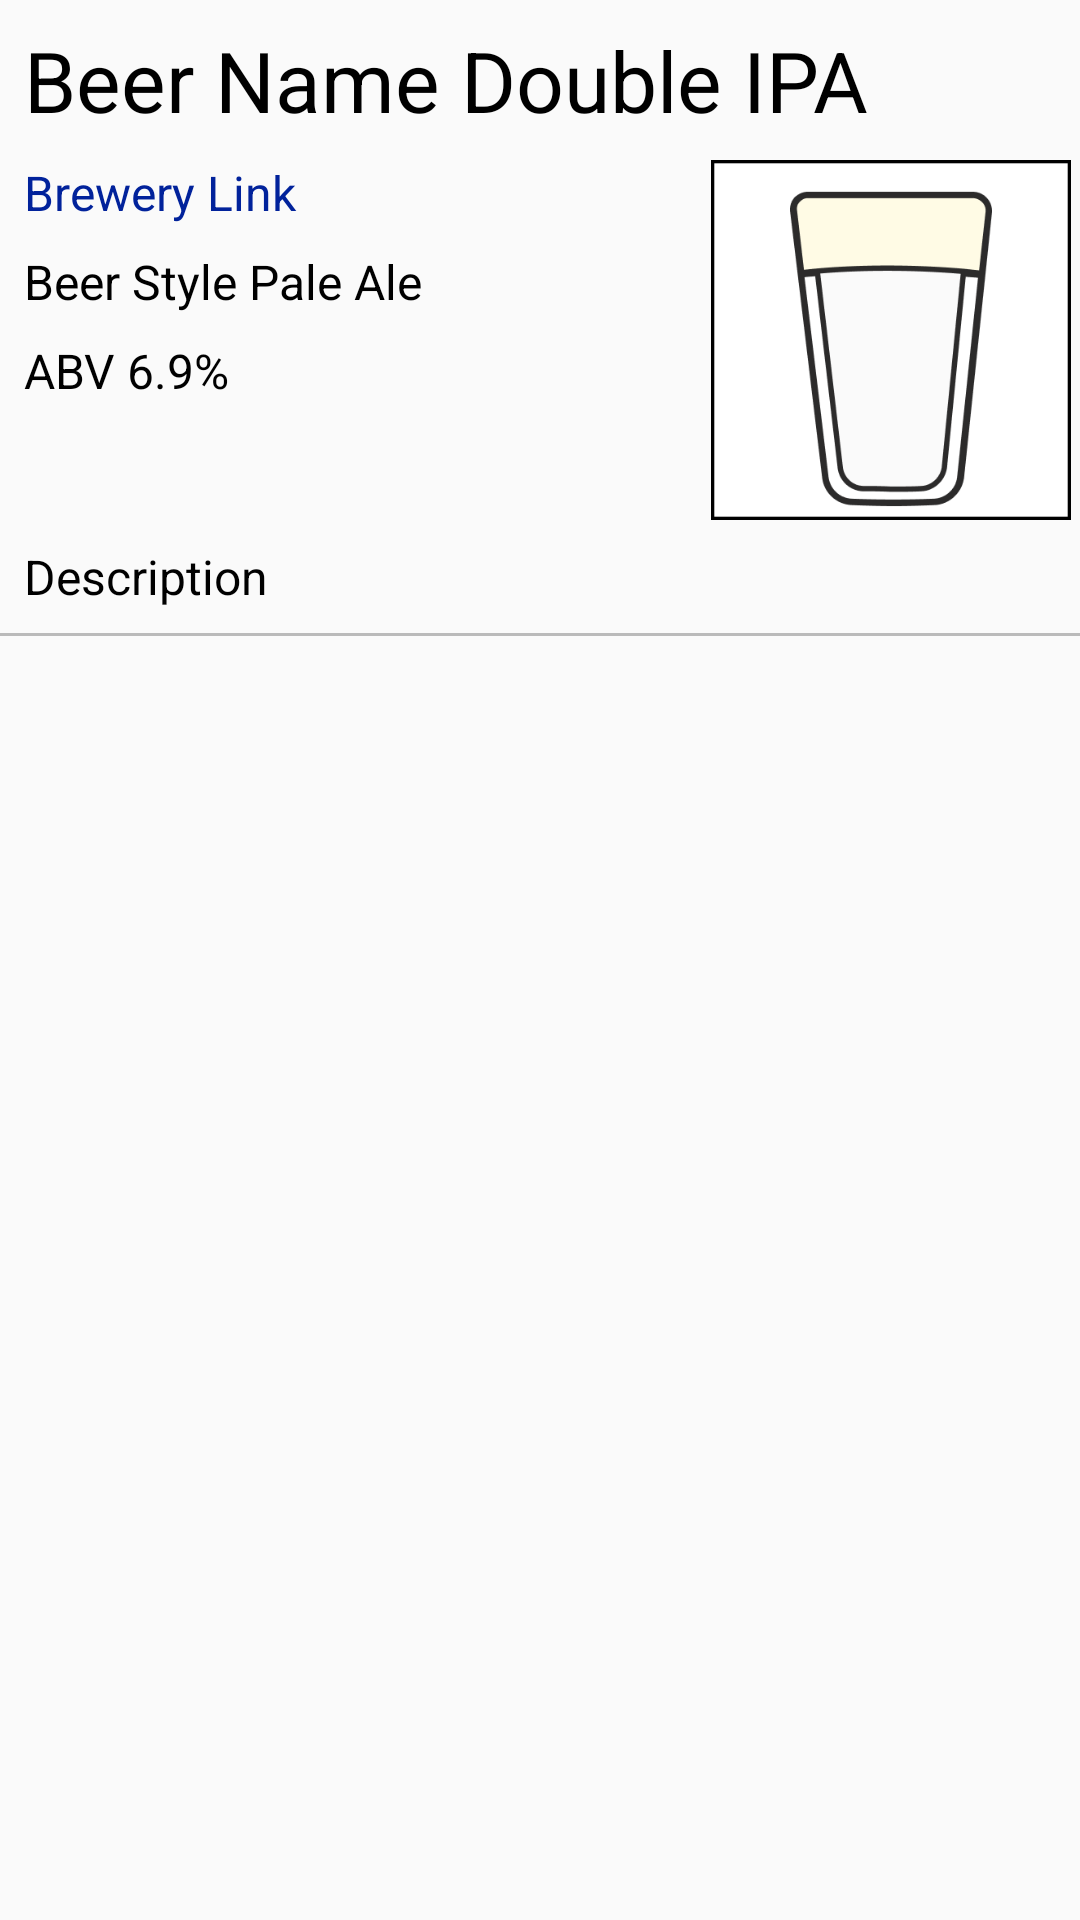

Named icons in this screenshot (1080px x 1920px) and their bounding boxes, BBox(x1, y1, x2, y2):
glass: BBox(711, 160, 1071, 520)
